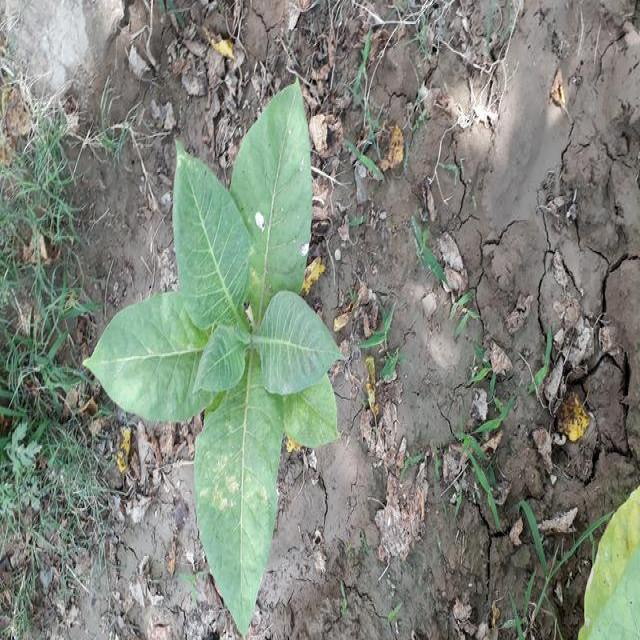crop: (76, 76, 338, 631), (586, 499, 639, 640)
